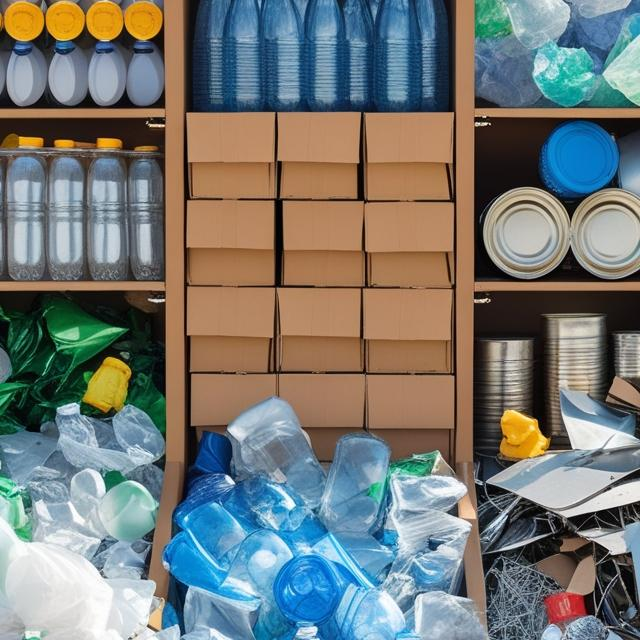metal: (476, 328, 531, 454)
plastic: (86, 130, 127, 280), (265, 0, 299, 106)
